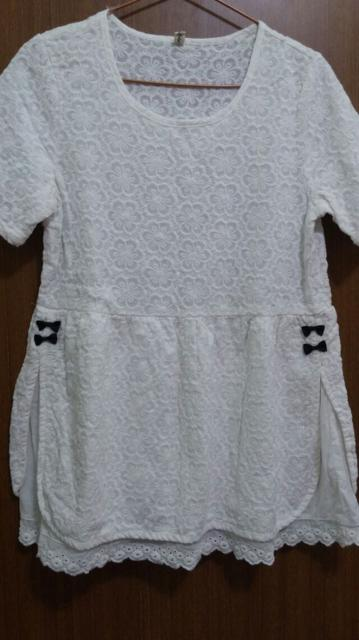Tops: (3, 10, 359, 569)
